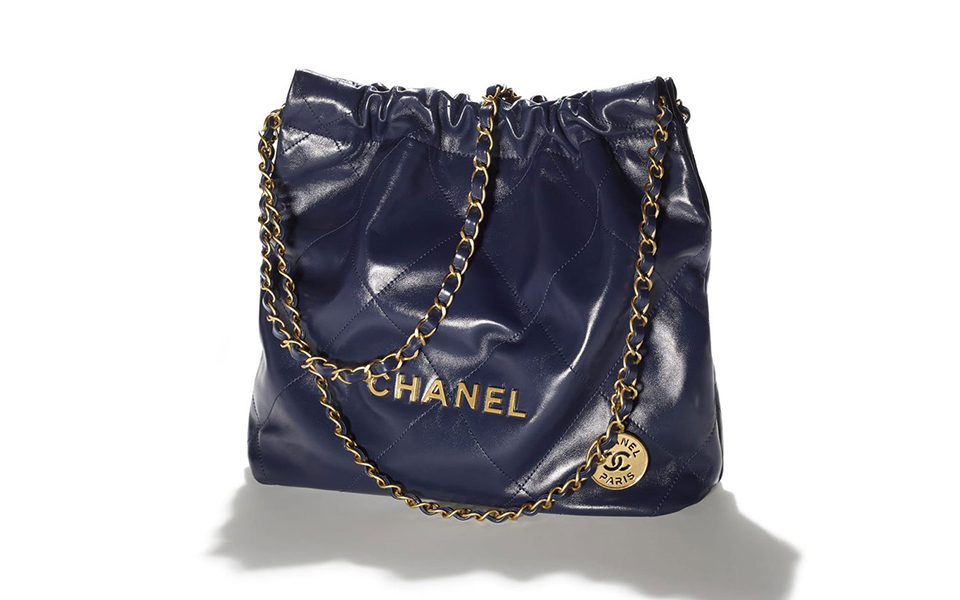channel: (222, 56, 725, 519), (634, 92, 679, 417), (354, 367, 548, 427), (581, 437, 656, 496)
